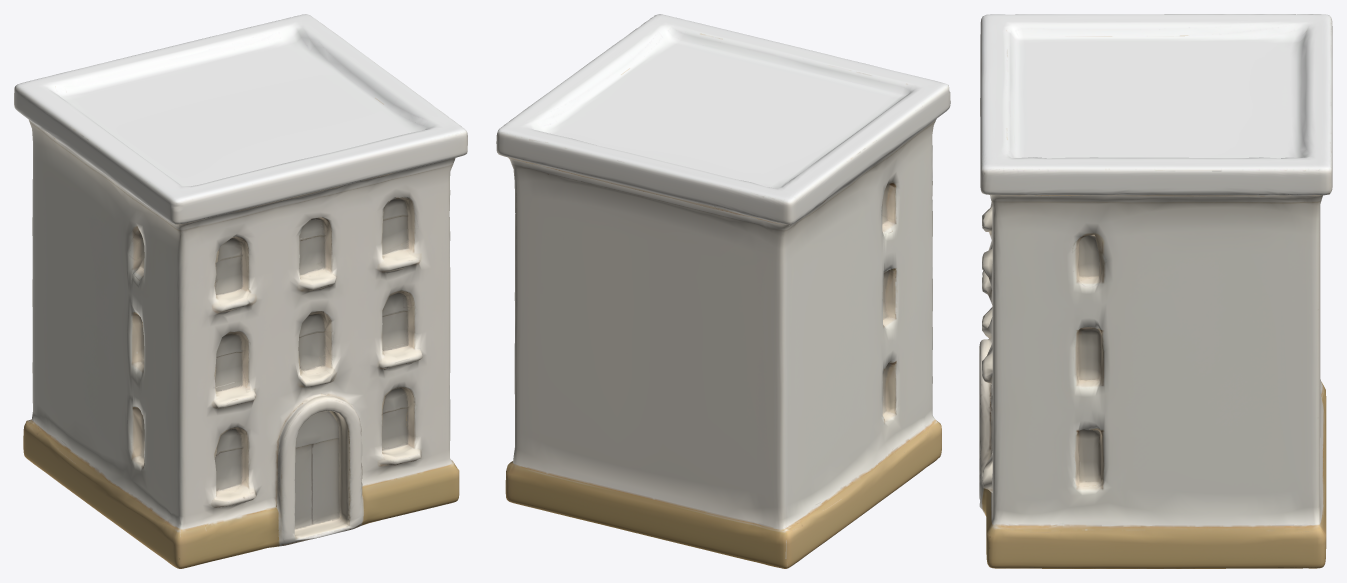
Rendered from Casa_Alcaldia_01.fbx.
3 views of the same model, side by side, from view 1: azimuth 30°, elevation 25°; view 2: azimuth 150°, elevation 25°; view 3: azimuth 270°, elevation 25° (orthographic). The views are drawn at different scales.
Parts seen in each view (by area): view 1: Retopo_model; view 2: Retopo_model; view 3: Retopo_model.
Part boxes in pixels (x1,y1,x2,y2): Retopo_model: [14, 14, 467, 568]; Retopo_model: [496, 14, 950, 568]; Retopo_model: [979, 14, 1332, 568].
Bounding box in the file's own units: 158 × 190 × 150.
Materials: 1 (1 with a texture image).
